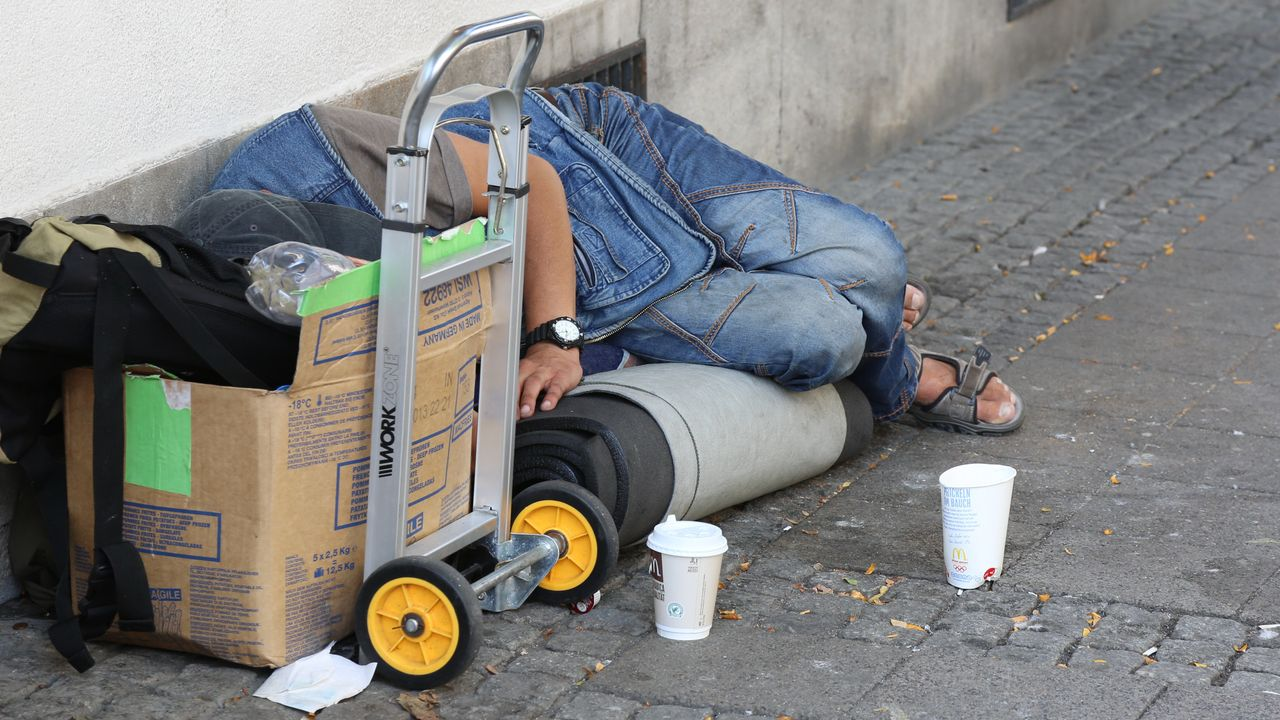gelandangan: (7, 65, 1037, 659)
